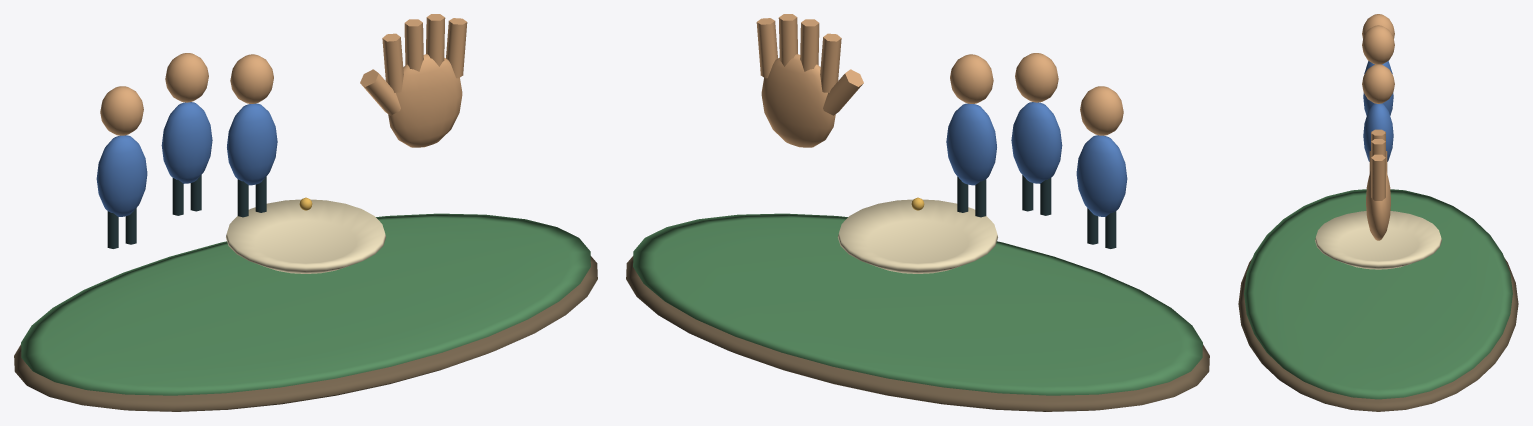
The model's file is complete-first-join-add-one.glb.
3 views of the same model, side by side, from view 1: azimuth 30°, elevation 25°; view 2: azimuth 150°, elevation 25°; view 3: azimuth 270°, elevation 25° (orthographic). The views are drawn at different scales.
Visible parts, largest first — view 1: complete-first-join-add-one_surface_01, complete-first-join-add-one_surface_02, complete-first-join-add-one_surface_00, complete-first-join-add-one_surface_03, complete-first-join-add-one_surface_06, complete-first-join-add-one_surface_04; view 2: complete-first-join-add-one_surface_01, complete-first-join-add-one_surface_02, complete-first-join-add-one_surface_00, complete-first-join-add-one_surface_03, complete-first-join-add-one_surface_06, complete-first-join-add-one_surface_04; view 3: complete-first-join-add-one_surface_01, complete-first-join-add-one_surface_06, complete-first-join-add-one_surface_00, complete-first-join-add-one_surface_02, complete-first-join-add-one_surface_03.
Part boxes in pixels (x1,y1,x2,y2): complete-first-join-add-one_surface_01: (21, 213, 590, 395); complete-first-join-add-one_surface_02: (100, 14, 467, 147); complete-first-join-add-one_surface_00: (14, 256, 597, 411); complete-first-join-add-one_surface_03: (96, 102, 277, 216); complete-first-join-add-one_surface_06: (226, 199, 385, 273); complete-first-join-add-one_surface_04: (107, 175, 266, 248); complete-first-join-add-one_surface_01: (633, 213, 1202, 395); complete-first-join-add-one_surface_02: (756, 14, 1123, 147); complete-first-join-add-one_surface_00: (626, 256, 1209, 411); complete-first-join-add-one_surface_03: (946, 102, 1127, 216); complete-first-join-add-one_surface_06: (838, 199, 997, 273); complete-first-join-add-one_surface_04: (957, 175, 1116, 248); complete-first-join-add-one_surface_01: (1244, 189, 1512, 399); complete-first-join-add-one_surface_06: (1315, 211, 1441, 269); complete-first-join-add-one_surface_00: (1238, 258, 1518, 411); complete-first-join-add-one_surface_02: (1362, 14, 1394, 240); complete-first-join-add-one_surface_03: (1363, 61, 1393, 161).
Size of the model in its own units: 4.56 by 2.41 by 2.5.
